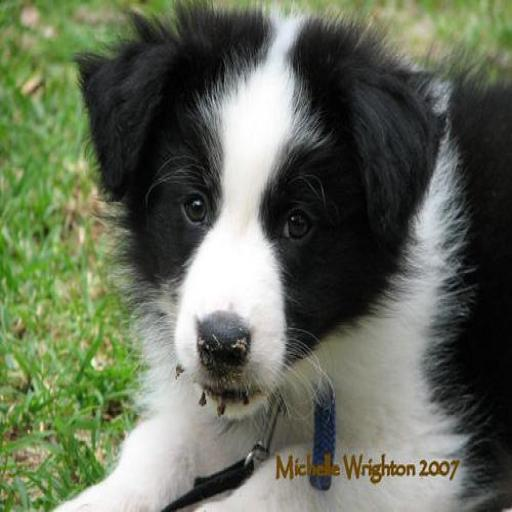dog_face: (76, 6, 428, 400)
